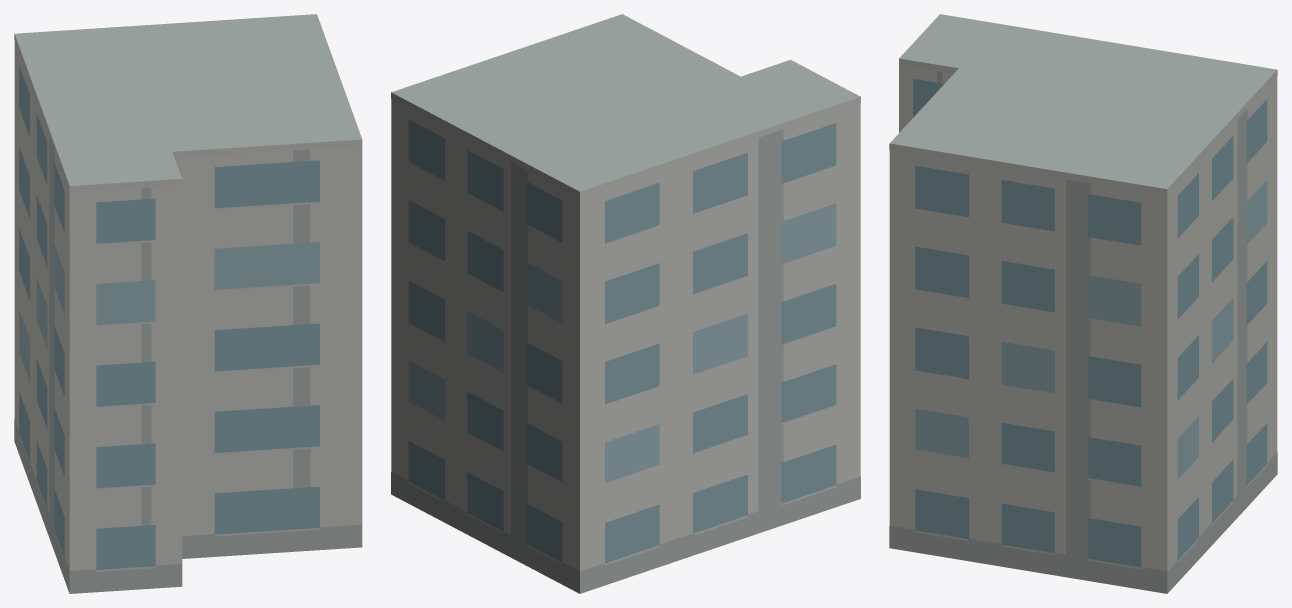
The model's file is residential-fc92bd3a-4713-4172-adde-e270750055b6.glb.
The picture shows the model from 3 angles, left to right: view 1: azimuth 30°, elevation 25°; view 2: azimuth 150°, elevation 25°; view 3: azimuth 270°, elevation 25°; orthographic projection.
Parts seen in each view (by area): view 1: residential-fc92bd3a-4713-4172-adde-e270750055b6.tmp; view 2: residential-fc92bd3a-4713-4172-adde-e270750055b6.tmp; view 3: residential-fc92bd3a-4713-4172-adde-e270750055b6.tmp.
Boxes of the visible parts, x1,y1,x2,y2 form: residential-fc92bd3a-4713-4172-adde-e270750055b6.tmp: (14, 14, 362, 593); residential-fc92bd3a-4713-4172-adde-e270750055b6.tmp: (391, 14, 860, 593); residential-fc92bd3a-4713-4172-adde-e270750055b6.tmp: (889, 14, 1277, 593).
Bounding box in the file's own units: 14.17 × 15.25 × 13.26.
